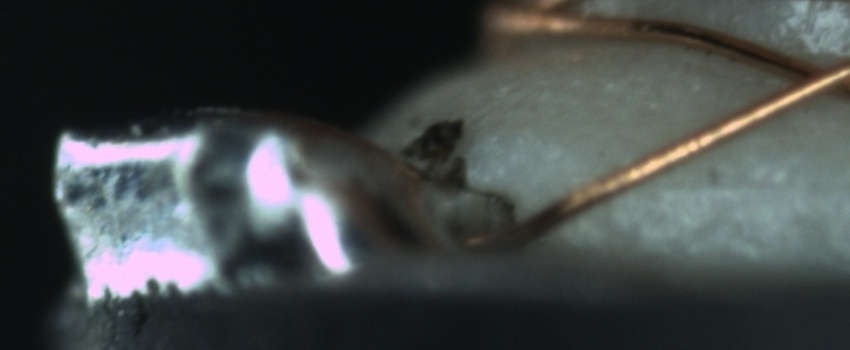CL: (763, 45, 847, 108)
DL: (624, 148, 846, 219)
